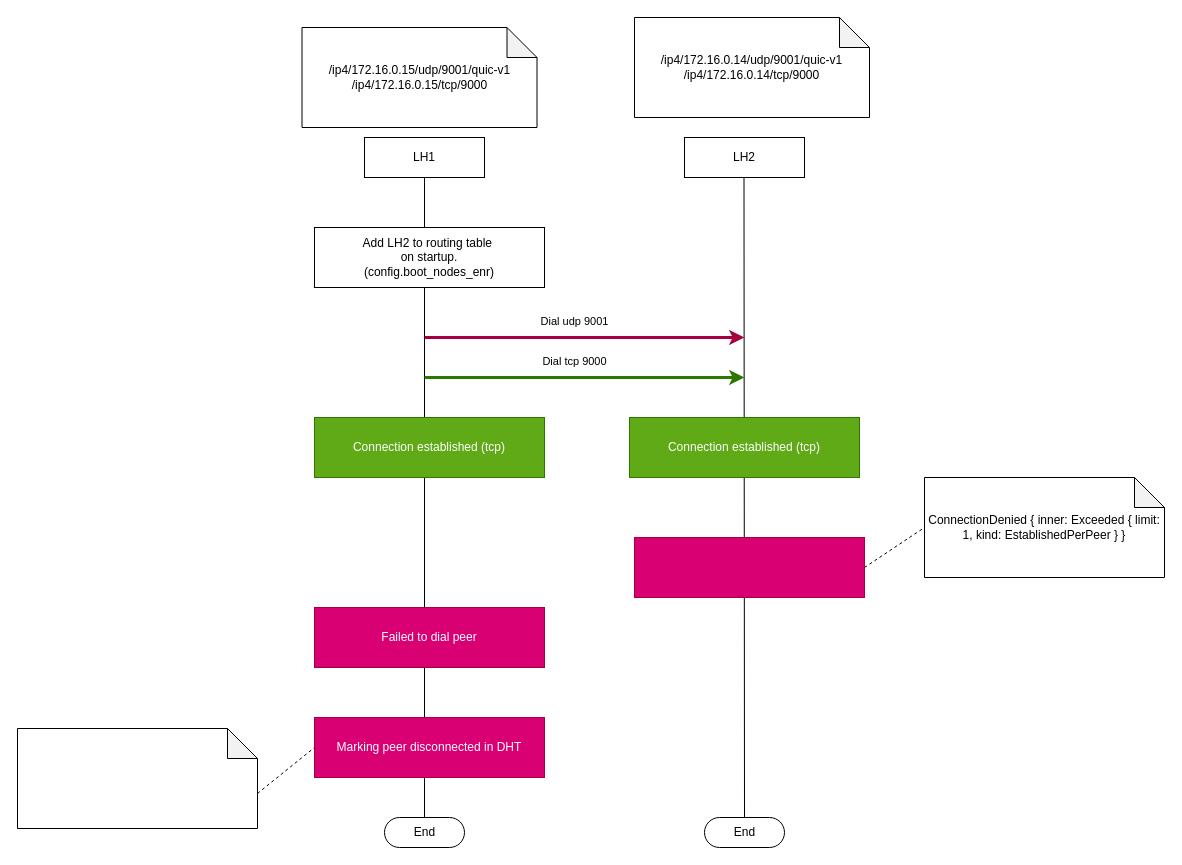
This 1182x865 diagram has some shape labels left out. Here are the shapes that lost their labels. From the top down, the centre of each, then its label:
(x=749, y=567): Failed incoming connection (udp)
(x=137, y=778): I think we shouldn't do this since a TCP connection has been established.
